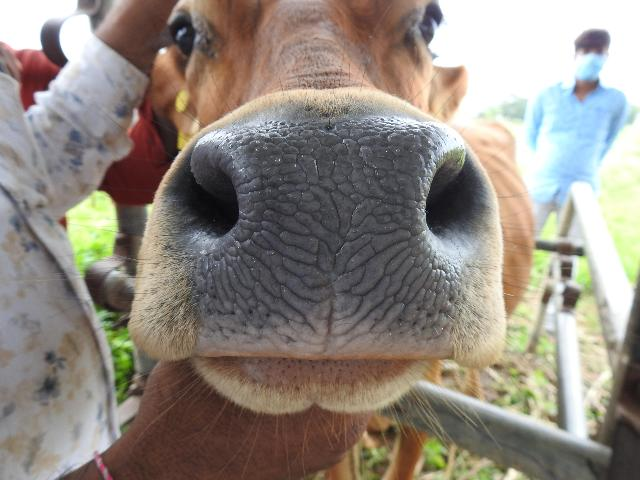Muzzle: (237, 130, 425, 346)
